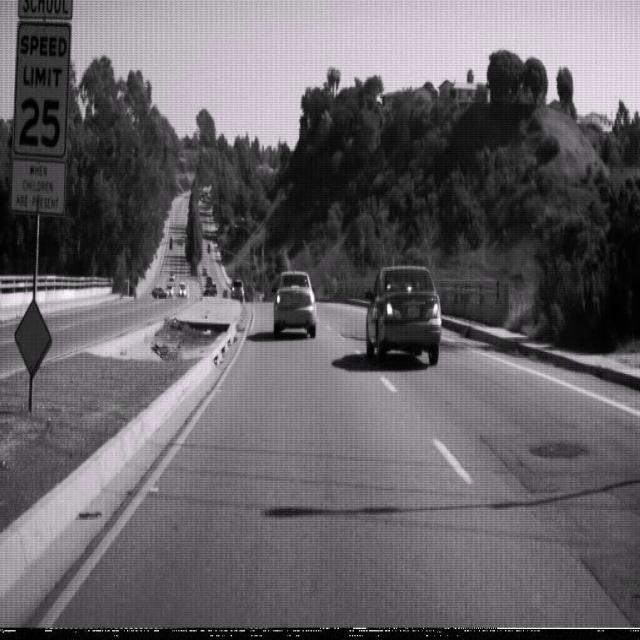speedLimit25: (10, 17, 72, 163)
